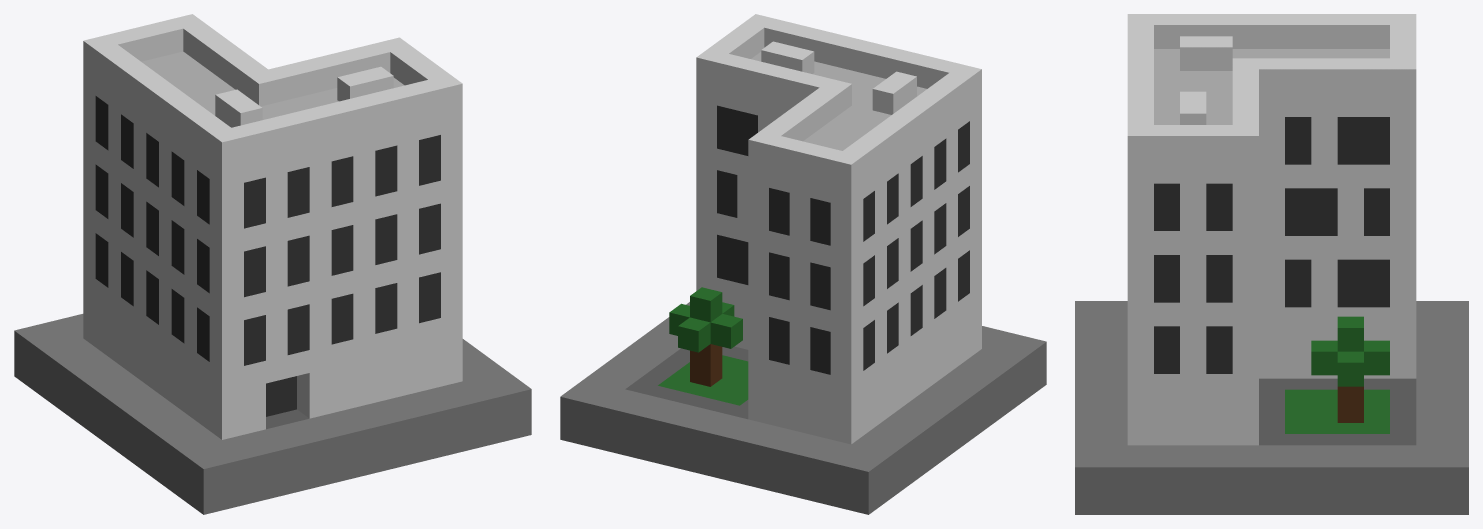
Rendered from Building05.obj.
3 views of the same model, side by side, from view 1: azimuth 30°, elevation 25°; view 2: azimuth 150°, elevation 25°; view 3: azimuth 270°, elevation 25° (orthographic). The views are drawn at different scales.
Parts seen in each view (by area): view 1: Building05; view 2: Building05; view 3: Building05.
Boxes of the visible parts, left/top/right/bottom form: Building05: left=14, top=14, right=531, bottom=514; Building05: left=560, top=14, right=1046, bottom=514; Building05: left=1075, top=14, right=1468, bottom=514.
Bounding box in the file's own units: 1.5 × 1.5 × 1.5.
1 material, 1 textured.
